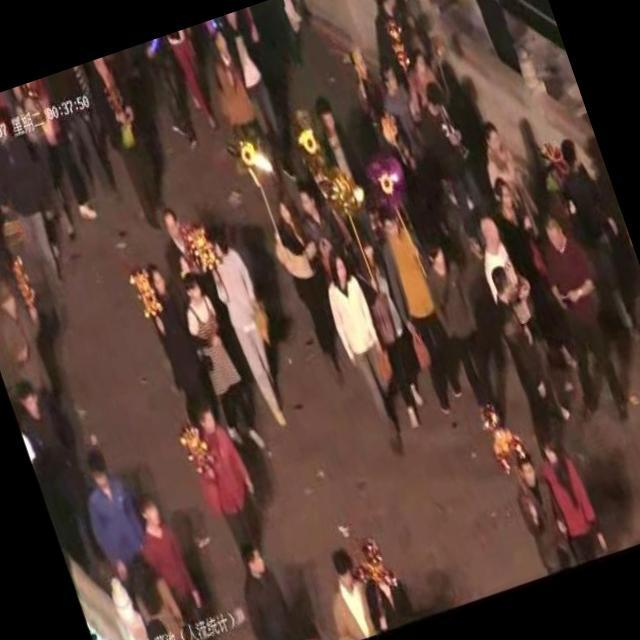person: (516, 198, 640, 433), (308, 240, 422, 466), (193, 208, 305, 438), (364, 200, 477, 423), (7, 368, 113, 577), (412, 226, 516, 436), (483, 172, 581, 381), (169, 262, 270, 464), (260, 183, 358, 390), (549, 127, 640, 349), (173, 391, 276, 560), (125, 484, 231, 640), (478, 260, 568, 440), (125, 254, 218, 416), (194, 22, 279, 181), (524, 422, 612, 569), (408, 78, 493, 228), (498, 438, 582, 579), (68, 436, 153, 572), (303, 84, 377, 218), (222, 528, 310, 640), (371, 54, 437, 178), (444, 0, 534, 88), (310, 540, 384, 640), (474, 114, 526, 190), (152, 202, 202, 280), (466, 207, 516, 274)
